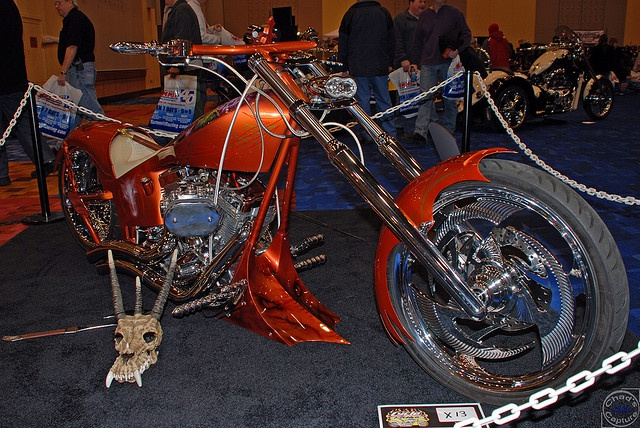non-vehicle: (50, 13, 630, 346), (482, 25, 615, 130)
